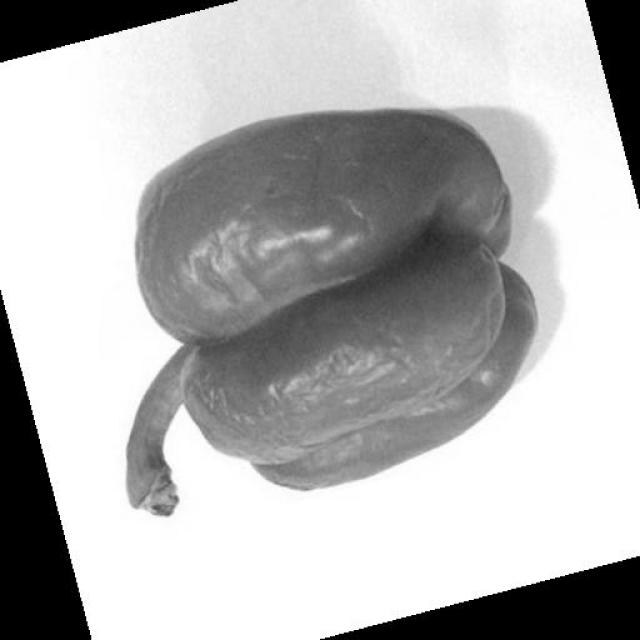Fresh_Capsicum: (102, 128, 573, 557)
